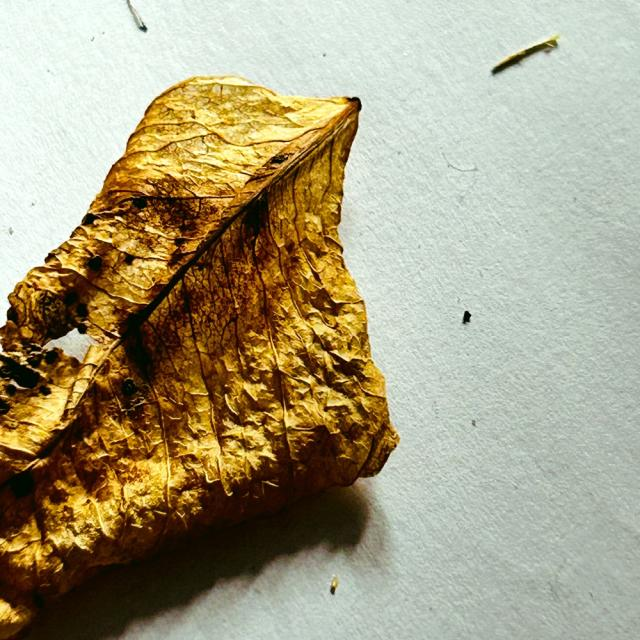DryLeaf_Lemon: (0, 77, 399, 637)
